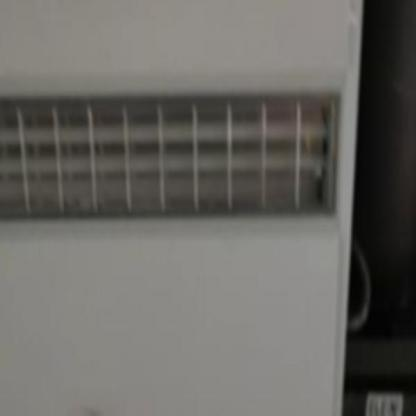light_off: (0, 29, 346, 268)
